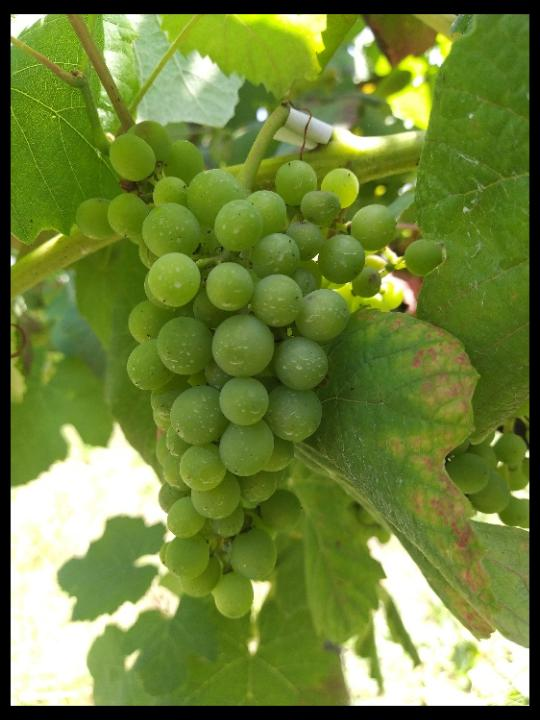grape: (71, 118, 446, 623)
